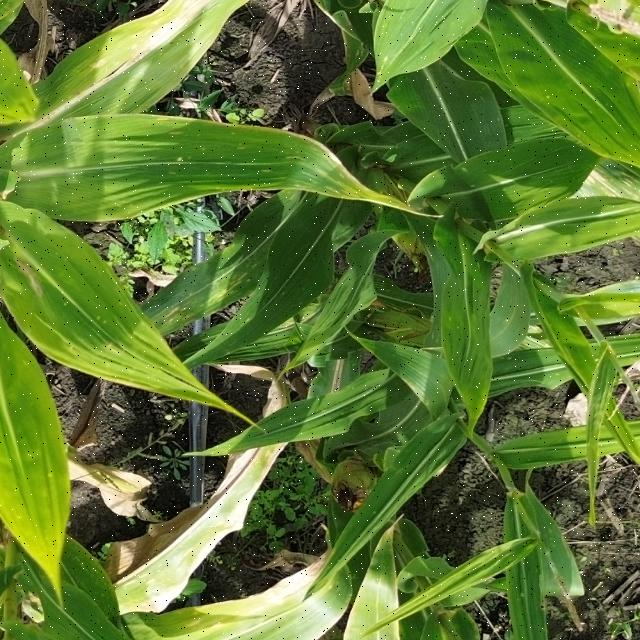gray-leaf-spot: (207, 138, 356, 196), (153, 265, 264, 324), (367, 270, 444, 317), (568, 156, 640, 204)
northern-leaf-blight: (59, 22, 184, 97), (212, 586, 340, 638), (314, 351, 363, 399)
southern-leaf-blight: (49, 288, 162, 378), (530, 64, 640, 132), (58, 544, 118, 608)
